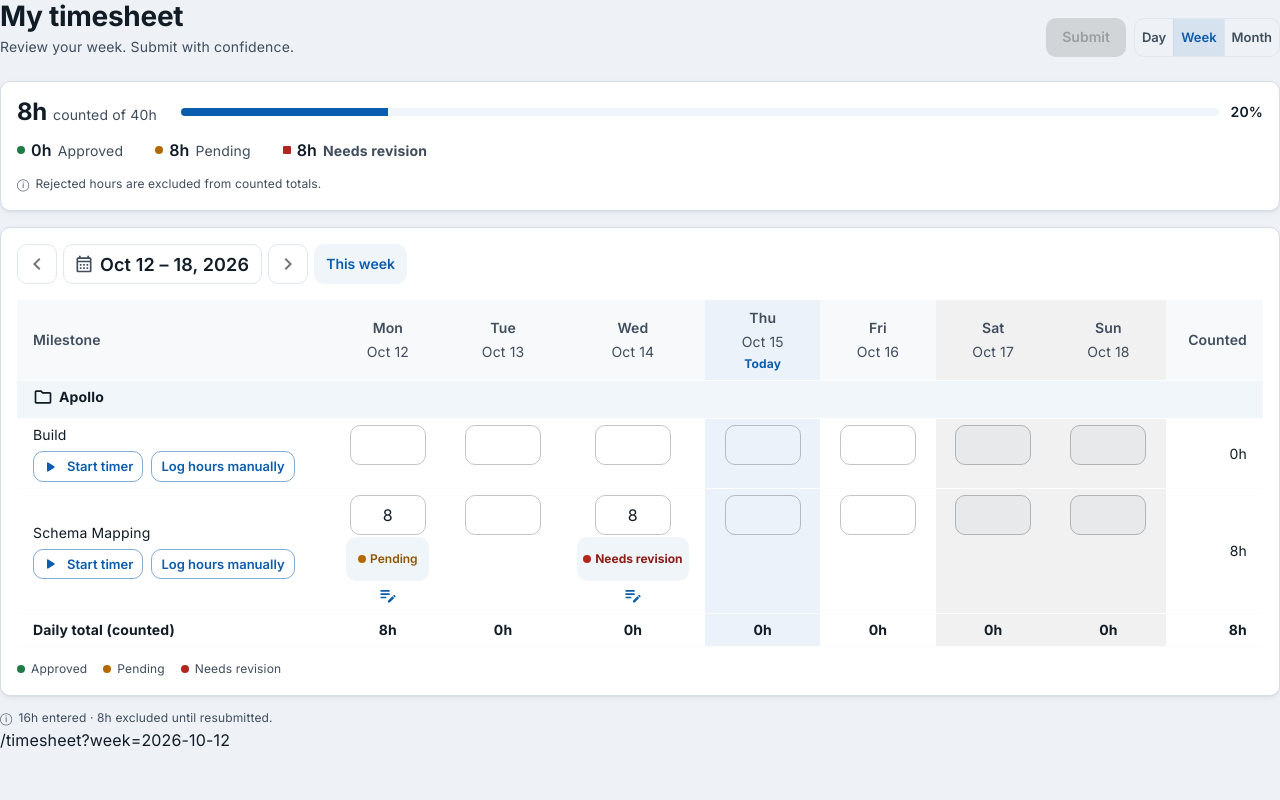
nothing is sent while a week loads, and typing on a row closed since is held back › typing on a row put on hold since leaves the totals and Submit, and a line says it is held back
Type "3" into the field named "Build, Tue Oct 13" at (503, 445), box [465,425,541,465]
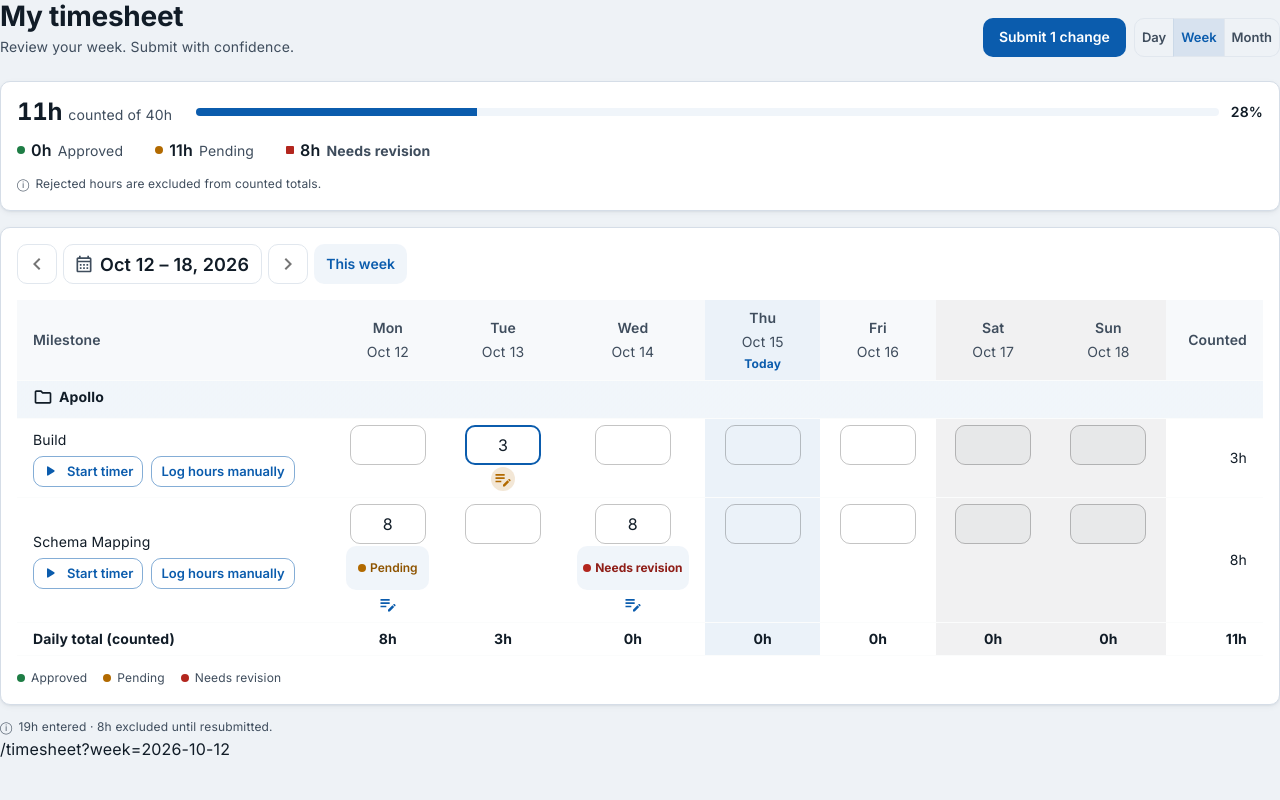
Type "2" into the field named "Build, Thu Oct 15" at (763, 445), box [725,425,801,465]
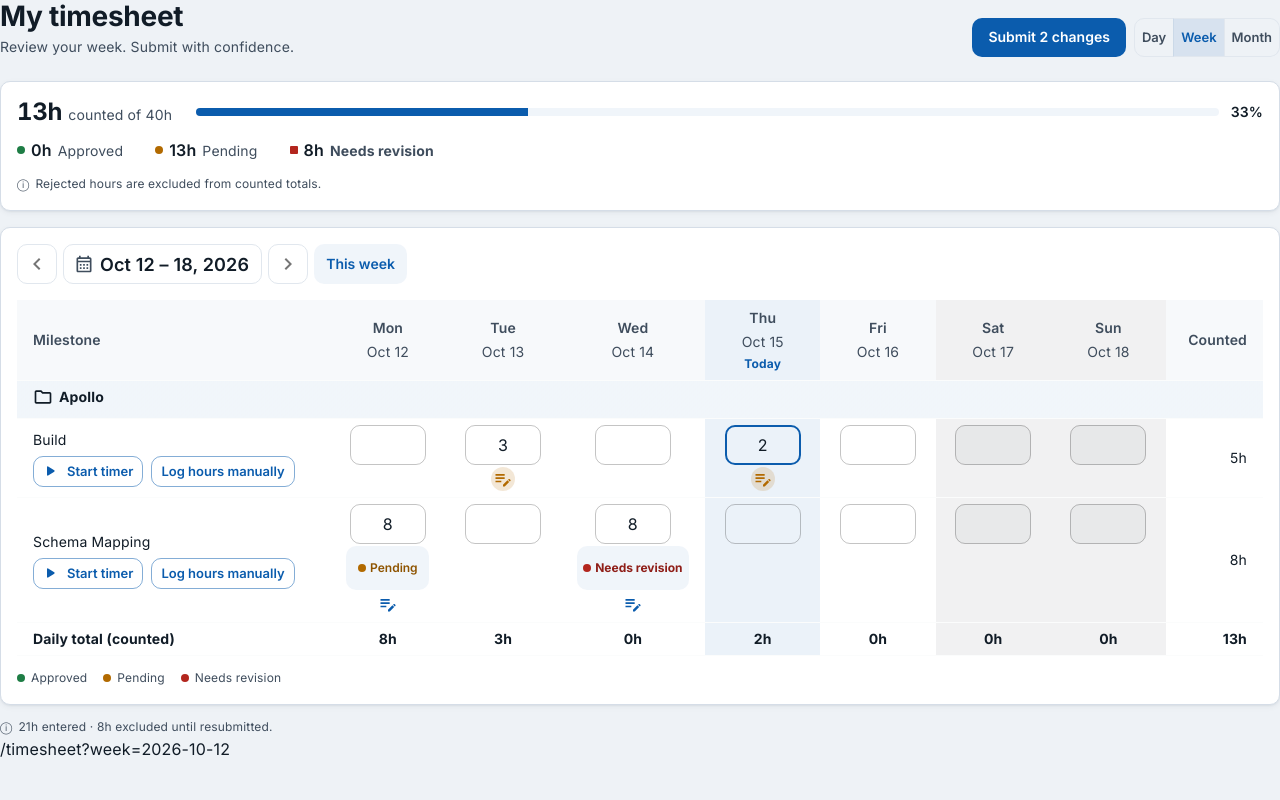
Expected: the text "won't be sent" is not shown
Expected: the element with test id "week-total" reads "13h counted of 40h", [17,98,172,126]
Click the button with aria-label "Needs revision, details for Schema Mapping, Wed Oct 14" at (633, 568), box [577,546,689,590]
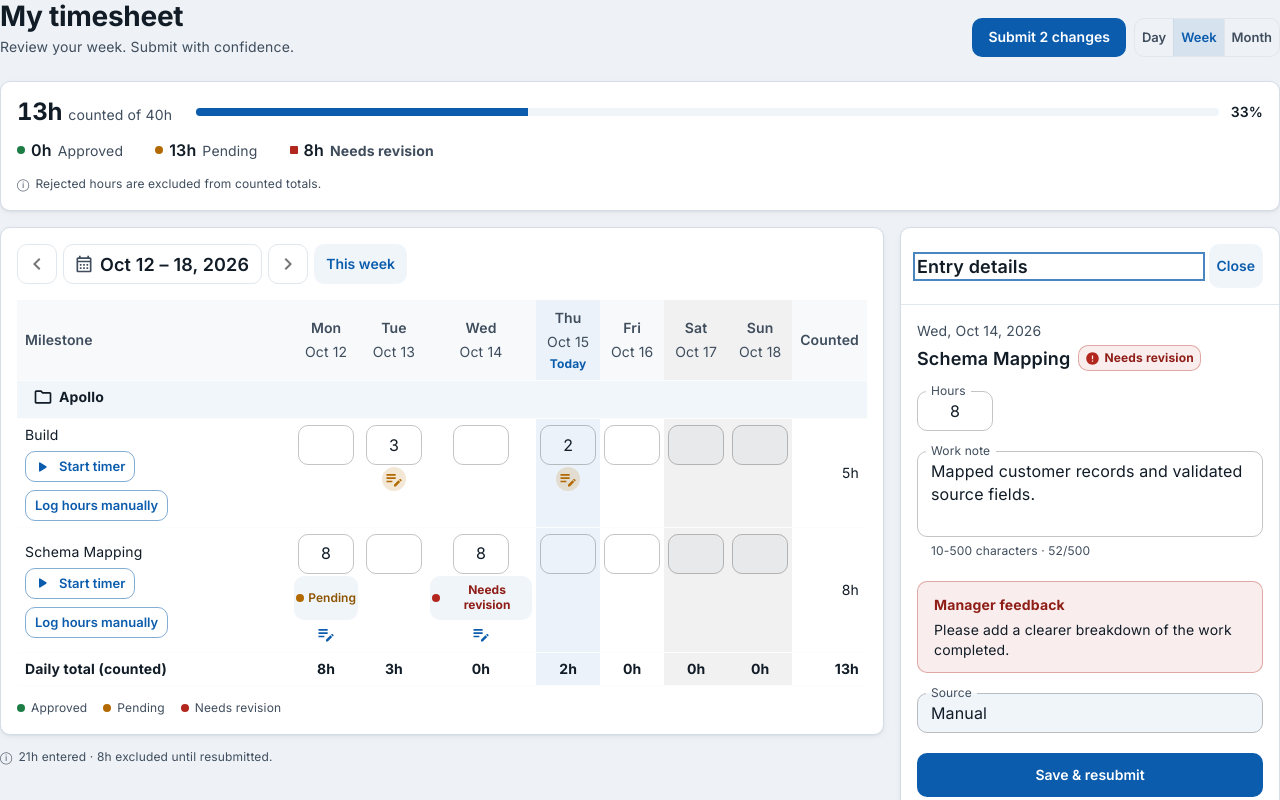
Click the button "Save & resubmit" at (1090, 775), box [917,753,1263,797]
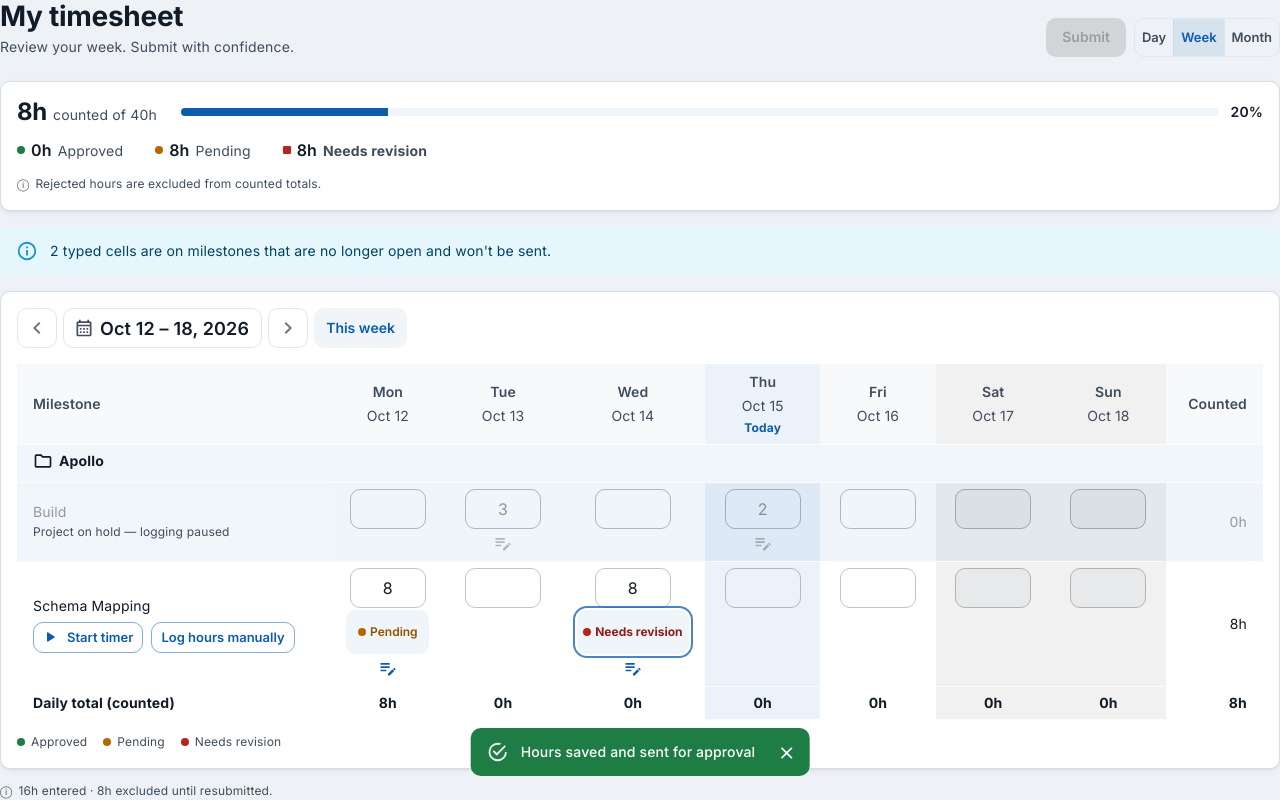
Expected: the field named "Build, Tue Oct 13" is disabled, [465,489,541,529]
Expected: the element with test id "week-total" reads "8h counted of 40h", [17,98,157,126]
Expected: the text "2 typed cells are on milestones that are no longer open and won't be sent." is shown, [50,242,551,259]
